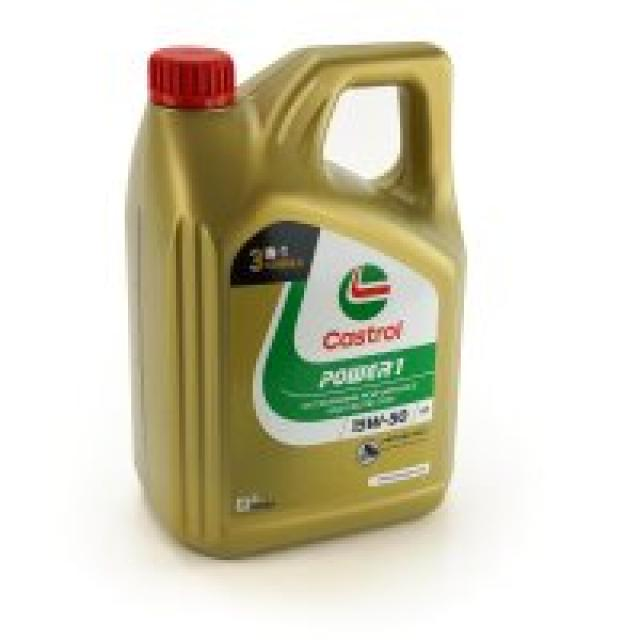motor_oil: (115, 40, 475, 570)
